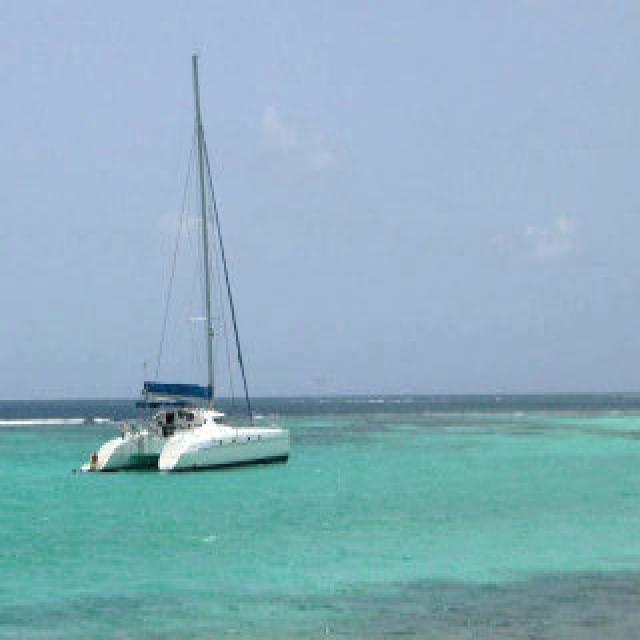Ship: (88, 58, 303, 478)
